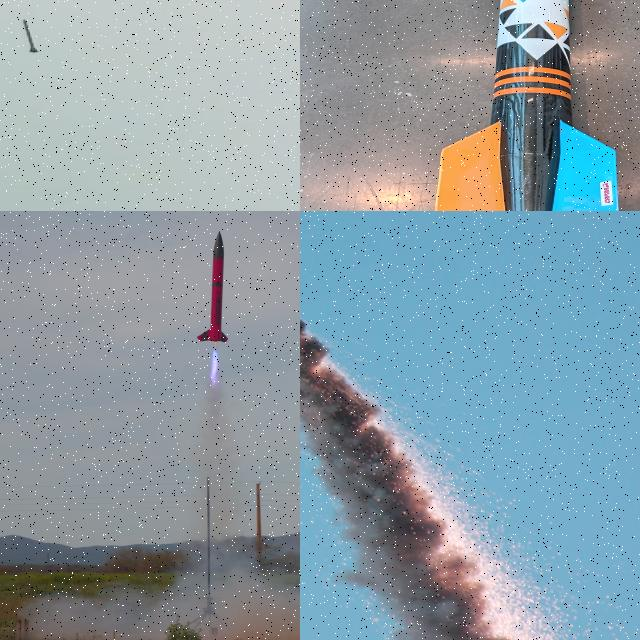Rocket: (434, 0, 620, 211), (197, 229, 230, 344), (22, 18, 42, 54)
